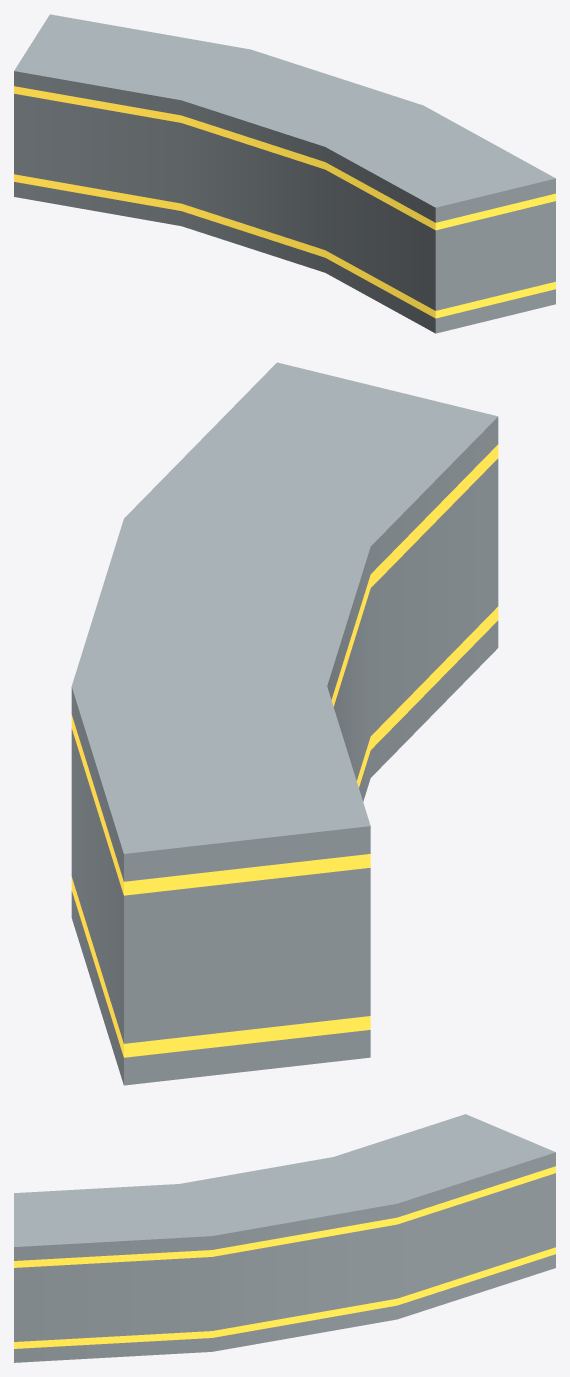
Rendered from SM_45DegreeBendBig_v0.fbx.
3 renders of one model, top to bottom at view 1: azimuth 30°, elevation 25°; view 2: azimuth 150°, elevation 25°; view 3: azimuth 270°, elevation 25°, orthographic. The views are drawn at different scales.
Visible parts, largest first — view 1: SM_45DegreeBendBig_v0; view 2: SM_45DegreeBendBig_v0; view 3: SM_45DegreeBendBig_v0.
Part boxes in pixels (box(x1,y1,x2,y2)): SM_45DegreeBendBig_v0: box(14, 14, 555, 333); SM_45DegreeBendBig_v0: box(71, 362, 498, 1085); SM_45DegreeBendBig_v0: box(14, 1114, 555, 1362).
Size of the model in its own units: 2.46 by 1 by 4.24.
